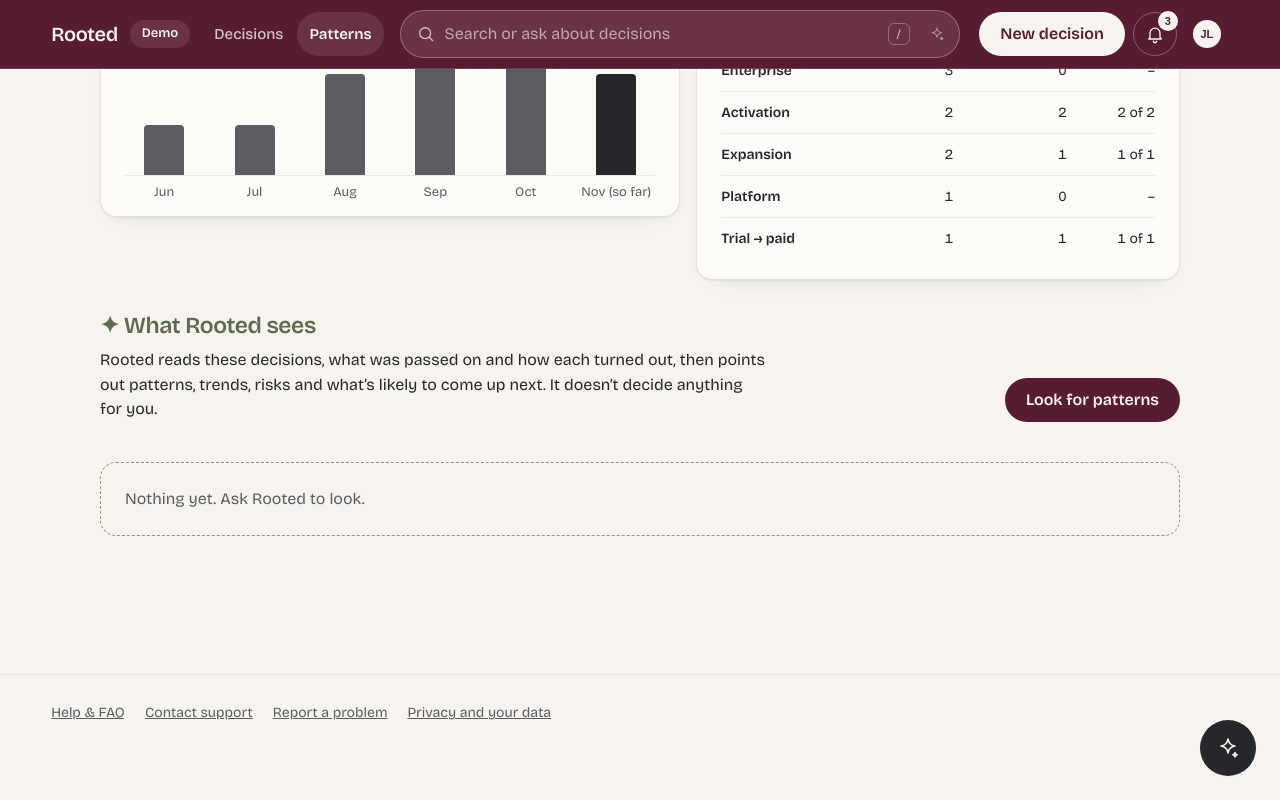
Test case: Patterns and trends (F-R3-05) › F-08: an insight can be edited, and says it was
(page scrolled)
Click the button "Look for patterns": (1092, 400) x1=1005 y1=378 x2=1180 y2=422
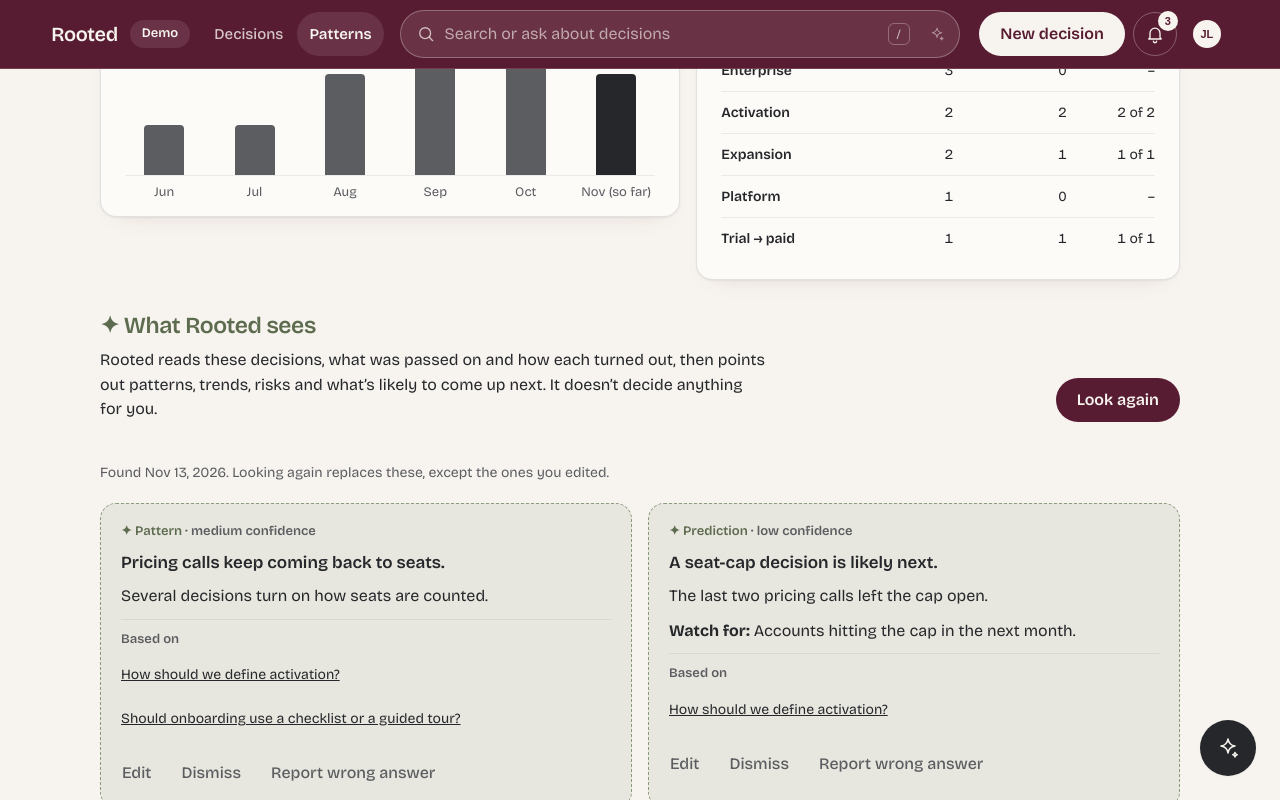
Click the button "Edit" below "medium": (137, 773) x1=109 y1=751 x2=164 y2=795
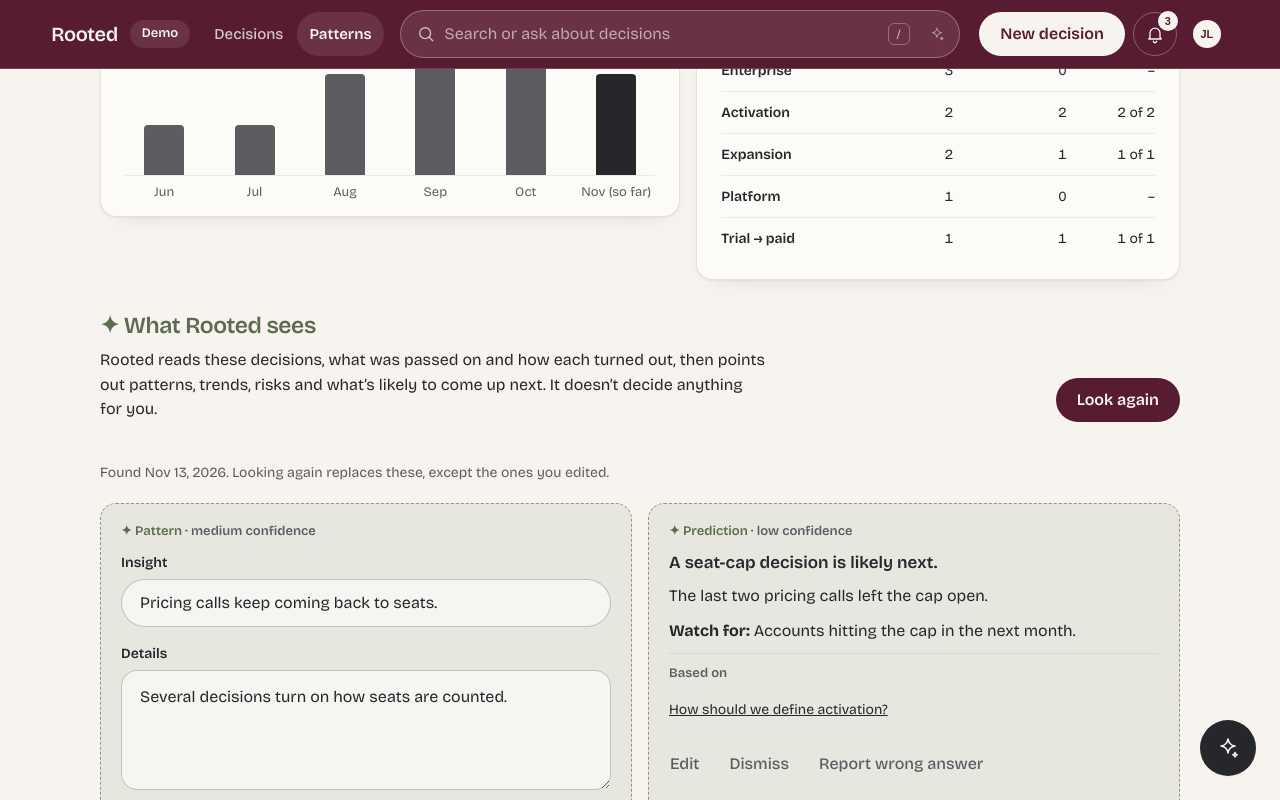
Replace the text in the field labelled "Insight" with "Seat pricing keeps coming up.": (366, 603) x1=121 y1=579 x2=611 y2=627
(page scrolled)
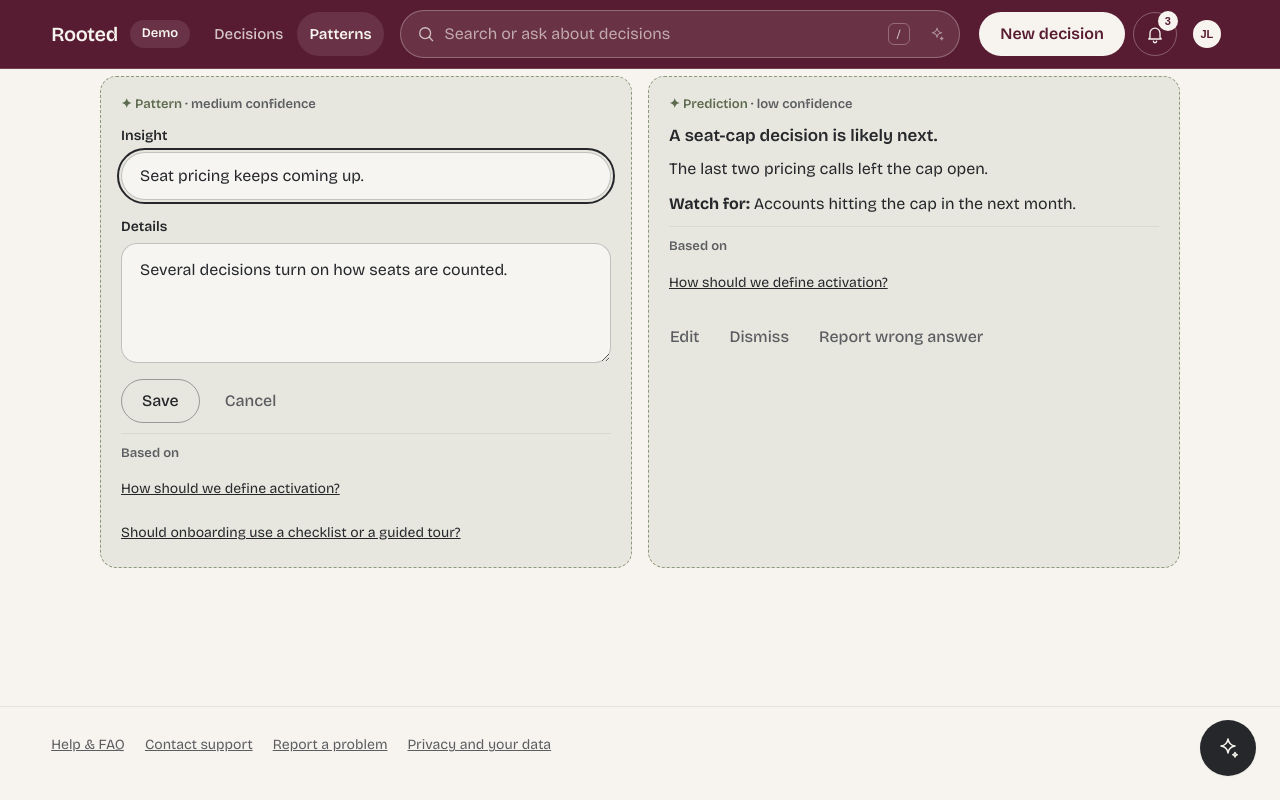
Click the button "Save": (160, 401) x1=121 y1=379 x2=200 y2=423
(page scrolled)
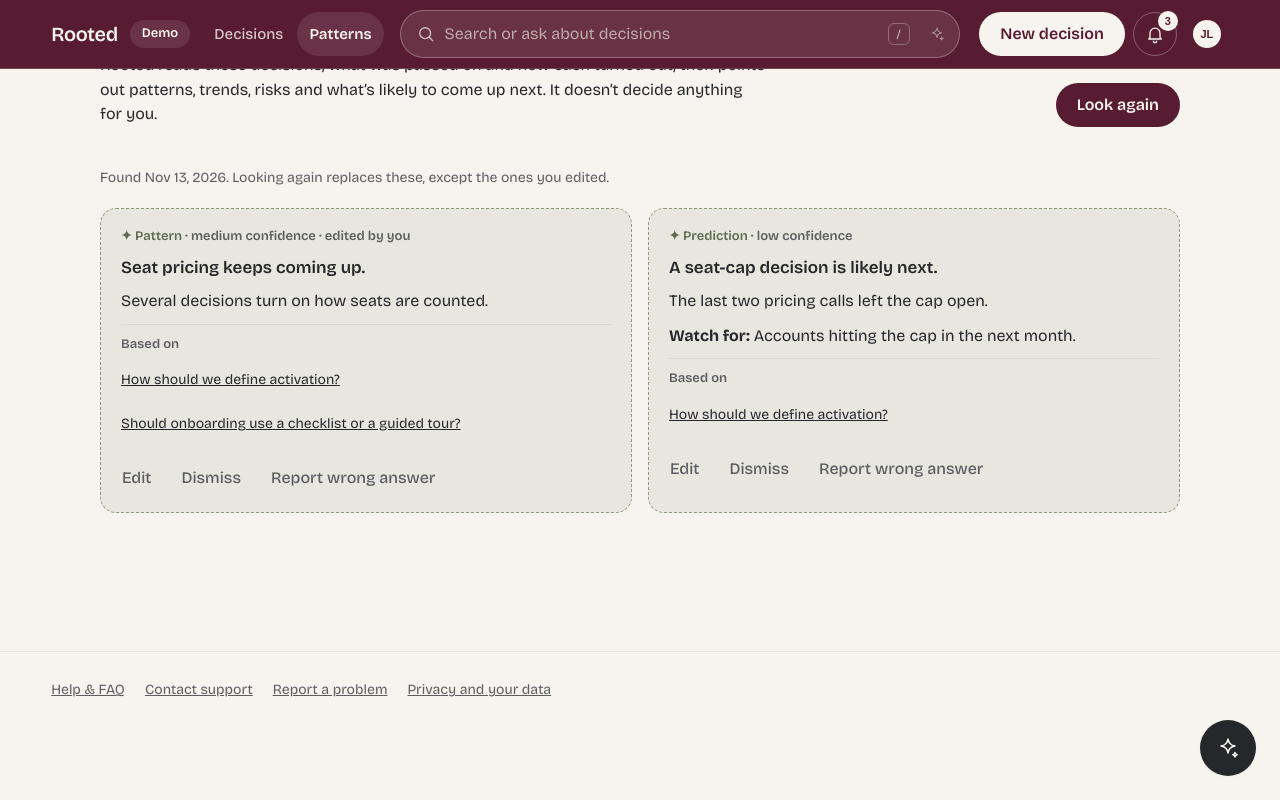
expect the text "Seat pricing keeps coming up." is shown: met, box x1=121 y1=257 x2=365 y2=278
expect the text "· edited by you" is shown: met, box x1=316 y1=228 x2=410 y2=244
